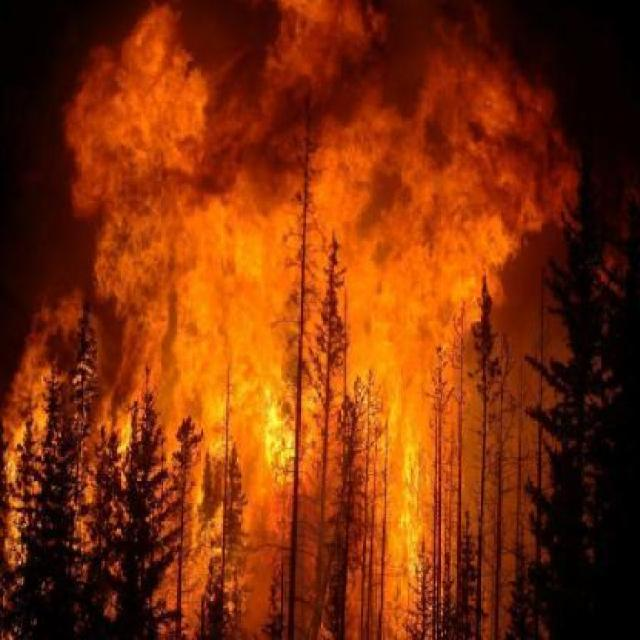Fire: (56, 34, 544, 588)
